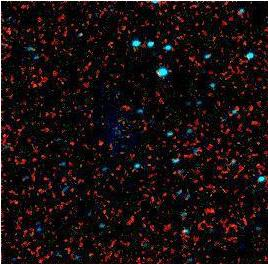star: (85, 132, 115, 162)
